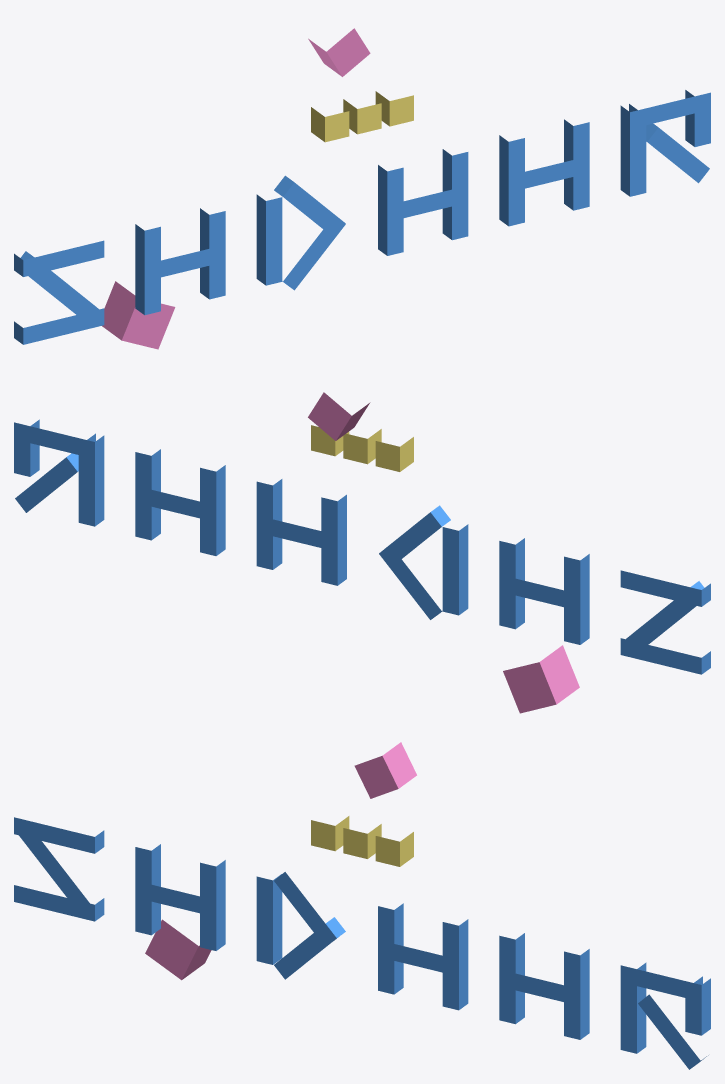
File: zakhar_fun_scene.glb
3 renders of one model, top to bottom at view 1: azimuth 30°, elevation 25°; view 2: azimuth 150°, elevation 25°; view 3: azimuth 330°, elevation 25°, orthographic.
Bounding box in the file's own units: 8.5 × 3.21 × 0.9.
